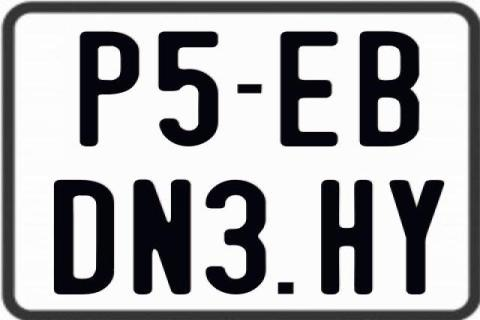0: (157, 29, 219, 149), (203, 178, 263, 294)
B: (359, 32, 424, 150)
D: (52, 180, 112, 294)
E: (277, 30, 335, 146)
H: (321, 178, 375, 292)
N: (132, 179, 196, 299)
P: (79, 30, 140, 146)
Y: (390, 180, 448, 295)
